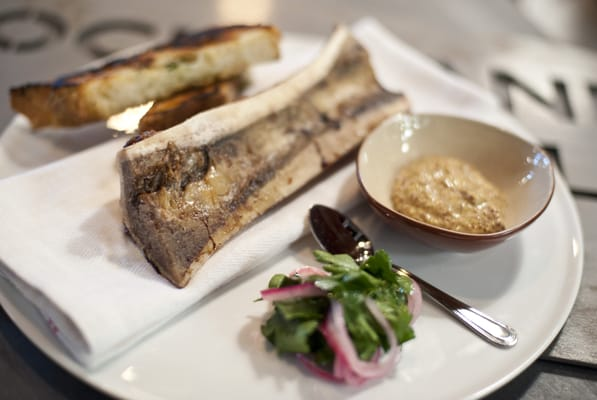soup: (117, 23, 409, 288)
sushi: (356, 112, 555, 250)
